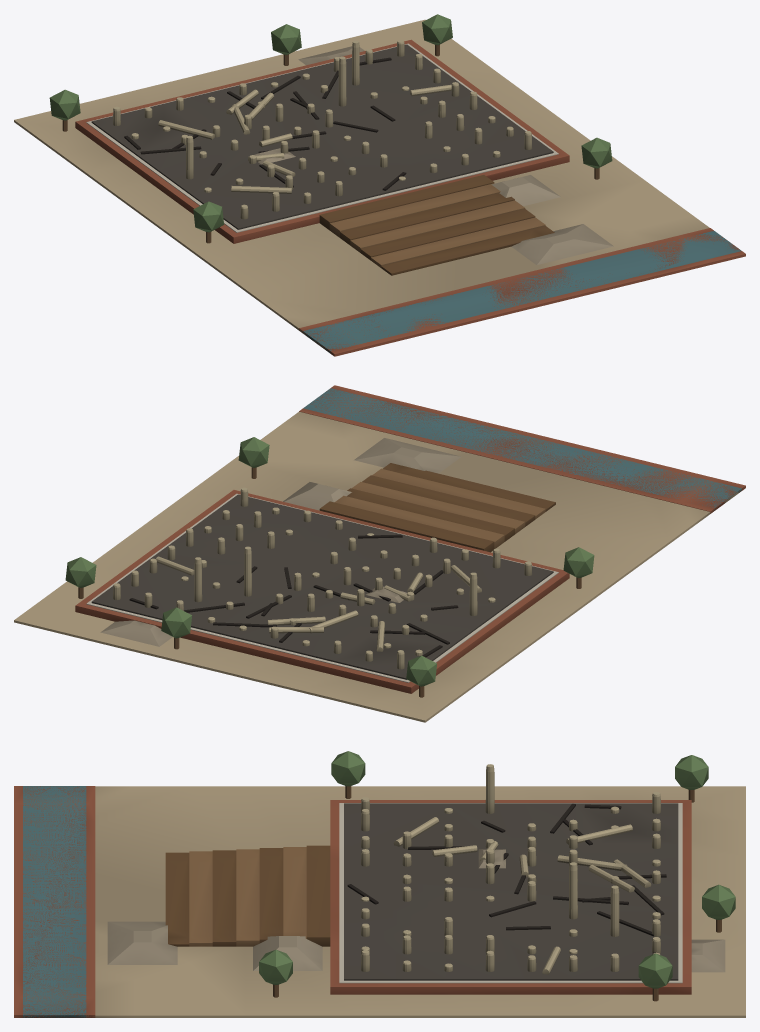
File: pillared-hall-ruin.glb
The picture shows the model from 3 angles, top to bottom: view 1: azimuth 30°, elevation 25°; view 2: azimuth 150°, elevation 25°; view 3: azimuth 270°, elevation 25°; orthographic projection. The views are drawn at different scales.
Parts seen in each view (by area): view 1: p0_floor and landing, p1_stumps, p3_silt and scrub, p2_fallen and burnt; view 2: p0_floor and landing, p1_stumps, p3_silt and scrub, p2_fallen and burnt; view 3: p0_floor and landing, p1_stumps, p3_silt and scrub, p2_fallen and burnt.
Boxes of the visible parts, left/top/right/bottom form: p0_floor and landing: left=14, top=19, right=745, bottom=356; p1_stumps: left=91, top=40, right=553, bottom=229; p3_silt and scrub: left=49, top=14, right=613, bottom=265; p2_fallen and burnt: left=124, top=57, right=451, bottom=193; p0_floor and landing: left=14, top=385, right=745, bottom=722; p1_stumps: left=91, top=487, right=553, bottom=679; p3_silt and scrub: left=65, top=437, right=594, bottom=697; p2_fallen and burnt: left=129, top=534, right=481, bottom=657; p0_floor and landing: left=14, top=786, right=745, bottom=1017; p1_stumps: left=344, top=764, right=678, bottom=980; p3_silt and scrub: left=107, top=751, right=735, bottom=1001; p2_fallen and burnt: left=347, top=803, right=666, bottom=974.
Bounding box in the file's own units: 60 × 8.05 × 81.
